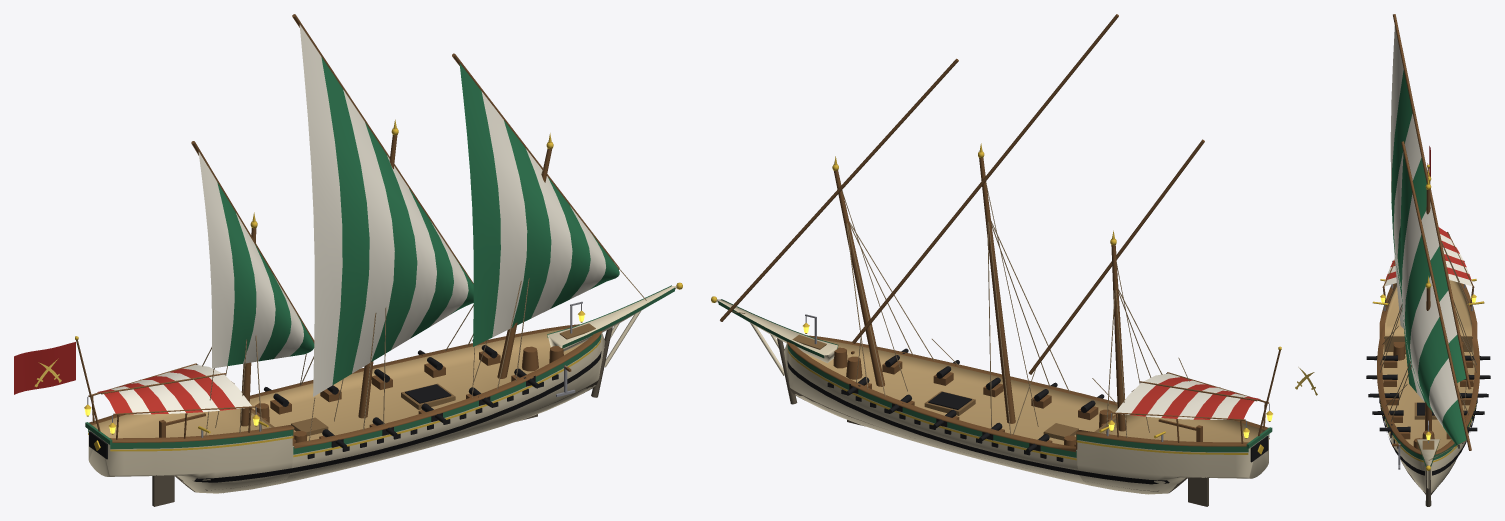
The model's file is xebec-10c.glb.
3 views of the same model, side by side, from view 1: azimuth 30°, elevation 25°; view 2: azimuth 150°, elevation 25°; view 3: azimuth 270°, elevation 25° (orthographic). The views are drawn at different scales.
Parts seen in each view (by area): view 1: Mesh_Hull, Mesh_DeckAndBulwarks, Mesh_Sail_Main_Stripe7, Mesh_Sail_Main_Stripe6, Mesh_Sail_Fore_Stripe6, Mesh_Sail_Main_Stripe5, Mesh_Sail_Fore_Stripe5, Mesh_Sail_Mizzen_Stripe5, Mesh_Sail_Main_Stripe4, Mesh_Sail_Fore_Stripe4, Mesh_Sail_Mizzen_Stripe4, Mesh_RailCapS (+17 smaller); view 2: Mesh_Hull, Mesh_DeckAndBulwarks, Mesh_RailCapP, Mesh_Trim_BandP, Mesh_WaleP, Mesh_MainMast, Mesh_MainYard, Mesh_ForeMast, Mesh_ForeYard, Mesh_MizzenMast, Mesh_RailCapS, Mesh_MizzenYard (+4 smaller); view 3: Mesh_DeckAndBulwarks, Mesh_Sail_Fore_Stripe4, Mesh_Sail_Fore_Stripe2, Mesh_Sail_Fore_Stripe3, Mesh_Sail_Main_Stripe6, Mesh_MainYard, Mesh_Sail_Fore_Stripe5, Mesh_Sail_Main_Stripe5, Mesh_Hull, Mesh_Sail_Main_Stripe7, Mesh_ForeYard, Mesh_Sail_Fore_Stripe1 (+20 smaller).
Boxes of the visible parts, left/top/right/bottom form: Mesh_Hull: left=88, top=333, right=605, bottom=493; Mesh_DeckAndBulwarks: left=92, top=328, right=583, bottom=440; Mesh_Sail_Main_Stripe7: left=299, top=24, right=342, bottom=396; Mesh_Sail_Main_Stripe6: left=321, top=57, right=369, bottom=384; Mesh_Sail_Fore_Stripe6: left=459, top=63, right=500, bottom=346; Mesh_Sail_Main_Stripe5: left=343, top=90, right=394, bottom=373; Mesh_Sail_Fore_Stripe5: left=481, top=91, right=527, bottom=337; Mesh_Sail_Mizzen_Stripe5: left=198, top=152, right=234, bottom=368; Mesh_Sail_Main_Stripe4: left=365, top=122, right=417, bottom=361; Mesh_Sail_Fore_Stripe4: left=504, top=120, right=551, bottom=327; Mesh_Sail_Mizzen_Stripe4: left=217, top=182, right=256, bottom=365; Mesh_RailCapS: left=110, top=331, right=601, bottom=448; Mesh_Hull: left=784, top=344, right=1268, bottom=494; Mesh_DeckAndBulwarks: left=805, top=339, right=1265, bottom=444; Mesh_RailCapP: left=787, top=341, right=1248, bottom=452; Mesh_Trim_BandP: left=787, top=345, right=1248, bottom=457; Mesh_WaleP: left=787, top=361, right=1169, bottom=484; Mesh_MainMast: left=979, top=157, right=1015, bottom=423; Mesh_MainYard: left=852, top=14, right=1118, bottom=343; Mesh_ForeMast: left=834, top=170, right=884, bottom=386; Mesh_ForeYard: left=720, top=58, right=958, bottom=321; Mesh_MizzenMast: left=1111, top=245, right=1126, bottom=431; Mesh_RailCapS: left=807, top=335, right=1268, bottom=430; Mesh_MizzenYard: left=1029, top=139, right=1204, bottom=374; Mesh_DeckAndBulwarks: left=1382, top=280, right=1474, bottom=450; Mesh_Sail_Fore_Stripe4: left=1404, top=234, right=1432, bottom=411; Mesh_Sail_Fore_Stripe2: left=1418, top=317, right=1448, bottom=412; Mesh_Sail_Fore_Stripe3: left=1410, top=276, right=1439, bottom=394; Mesh_Sail_Main_Stripe6: left=1391, top=70, right=1412, bottom=297; Mesh_MainYard: left=1393, top=14, right=1471, bottom=389; Mesh_Sail_Fore_Stripe5: left=1402, top=193, right=1424, bottom=402; Mesh_Sail_Main_Stripe5: left=1393, top=114, right=1421, bottom=289; Mesh_Hull: left=1381, top=407, right=1475, bottom=494; Mesh_Sail_Main_Stripe7: left=1390, top=25, right=1403, bottom=328; Mesh_ForeYard: left=1401, top=141, right=1471, bottom=450; Mesh_Sail_Fore_Stripe1: left=1429, top=358, right=1457, bottom=427.
Size of the model in its own units: 32.7 by 22.51 by 6.79.
